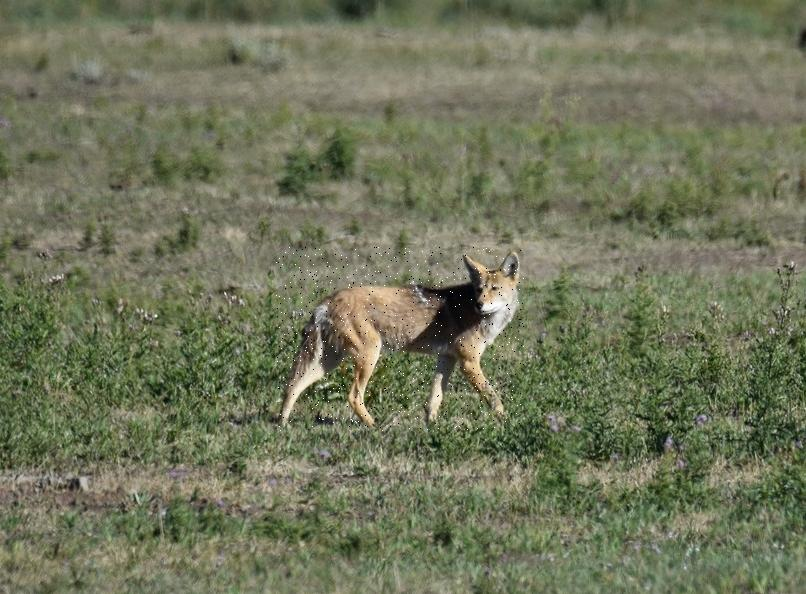Coyote: (276, 247, 525, 431)
